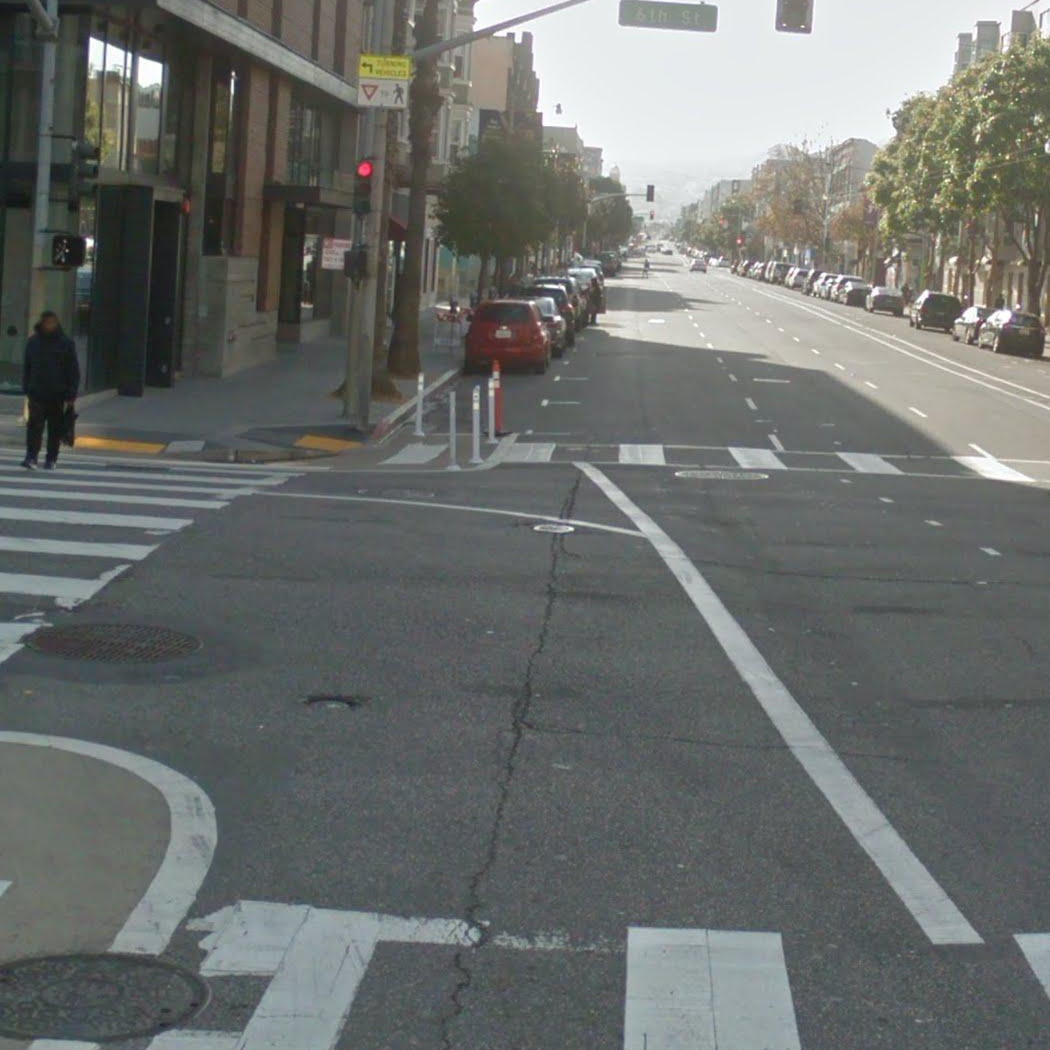No Parking: (320, 235, 354, 273)
